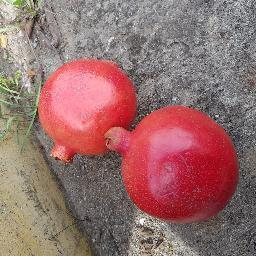Good_pomegranate: (123, 104, 241, 222), (30, 58, 136, 168)
